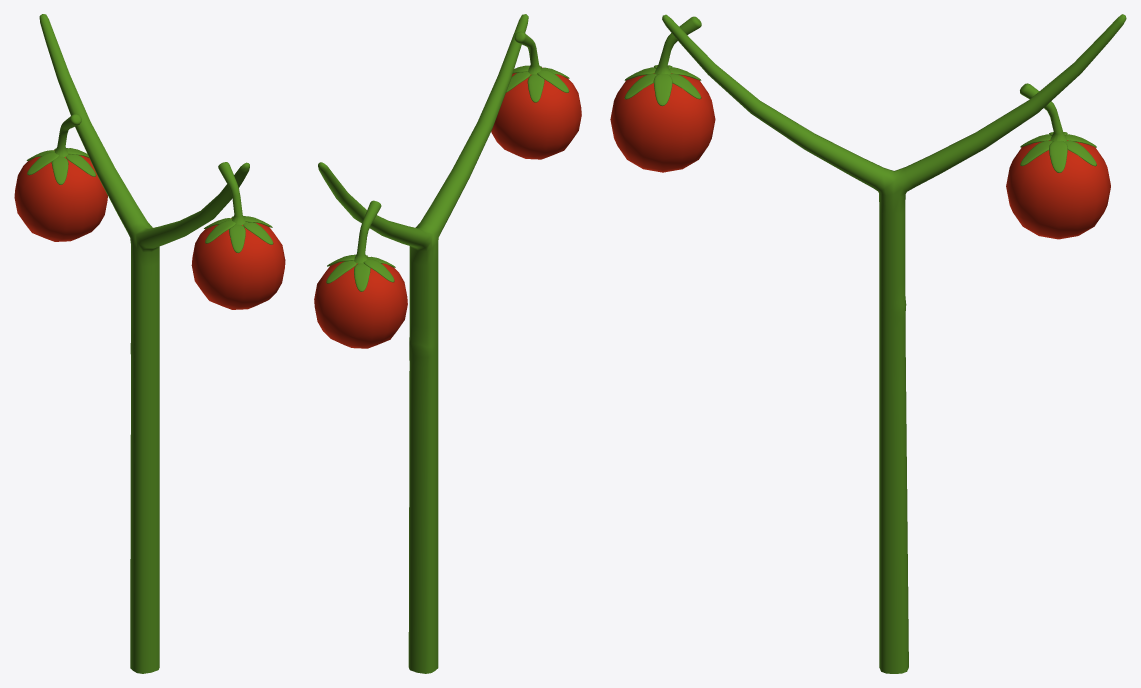
File: prop25.fbx
The picture shows the model from 3 angles, left to right: view 1: azimuth 30°, elevation 25°; view 2: azimuth 150°, elevation 25°; view 3: azimuth 270°, elevation 25°; orthographic projection. The views are drawn at different scales.
Visible parts, largest first — view 1: Cube.080; view 2: Cube.080; view 3: Cube.080.
Boxes of the visible parts, x1,y1,x2,y2 form: Cube.080: (14, 14, 285, 673); Cube.080: (314, 14, 581, 673); Cube.080: (610, 14, 1126, 673).
Size of the model in its own units: 0.1538 by 0.7397 by 1.03.
